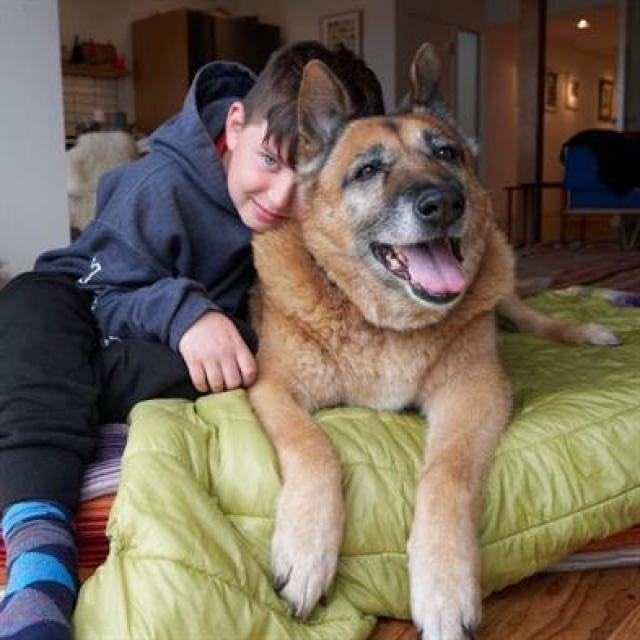Dog: (296, 46, 495, 320)
